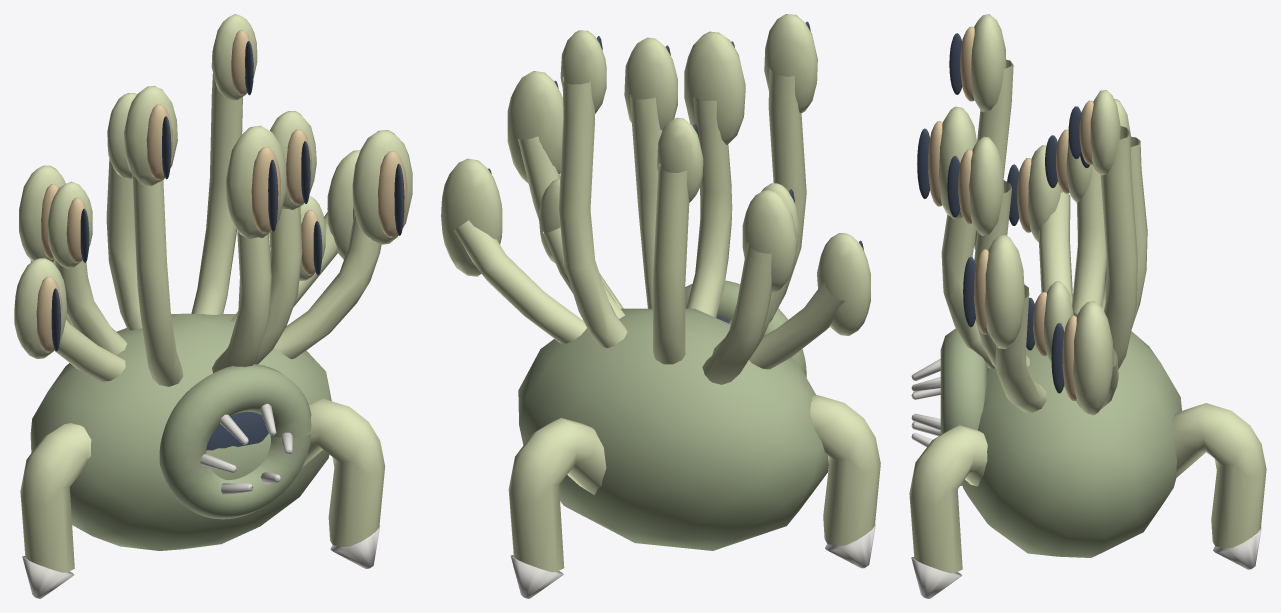
Rendered from bio_eye_orchard_07_far.glb.
3 renders of one model, left to right at view 1: azimuth 30°, elevation 25°; view 2: azimuth 150°, elevation 25°; view 3: azimuth 270°, elevation 25°, orthographic. The views are drawn at different scales.
Visible parts, largest first — view 1: Rooted muscular caudex, Raised oral lip, Asymmetric ocular branch.007, Asymmetric ocular branch.005, Asymmetric ocular branch.003, Asymmetric ocular branch.002, Crooked support.002, Crooked support.001, Asymmetric ocular branch.006, Asymmetric ocular branch.010, Asymmetric ocular branch.004, Asymmetric ocular branch.009 (+18 smaller); view 2: Rooted muscular caudex, Asymmetric ocular branch.003, Asymmetric ocular branch.002, Asymmetric ocular branch.008, Crooked support, Asymmetric ocular branch.006, Asymmetric ocular branch.001, Asymmetric ocular branch.007, Crooked support.001, Asymmetric ocular branch.010, Asymmetric ocular branch.004, Asymmetric ocular branch.005 (+5 smaller); view 3: Rooted muscular caudex, Crooked support, Asymmetric ocular branch.003, Crooked support.002, Asymmetric ocular branch.005, Asymmetric ocular branch.002, Asymmetric ocular branch.007, Asymmetric ocular branch.009, Asymmetric ocular branch.004, Asymmetric ocular branch.010, Asymmetric ocular branch.008, Raised oral lip (+22 smaller).
Boxes of the visible parts, x1,y1,x2,y2 form: Rooted muscular caudex: (30, 313, 331, 550); Raised oral lip: (159, 364, 311, 519); Asymmetric ocular branch.007: (124, 86, 183, 386); Asymmetric ocular branch.005: (274, 130, 412, 359); Asymmetric ocular branch.003: (191, 14, 257, 314); Asymmetric ocular branch.002: (212, 125, 286, 373); Crooked support.002: (302, 398, 385, 546); Crooked support.001: (20, 423, 91, 572); Asymmetric ocular branch.006: (106, 93, 142, 330); Asymmetric ocular branch.010: (254, 111, 316, 364); Asymmetric ocular branch.004: (14, 258, 125, 381); Asymmetric ocular branch.009: (47, 181, 127, 354); Rooted muscular caudex: (518, 308, 828, 550); Asymmetric ocular branch.003: (558, 30, 627, 347); Asymmetric ocular branch.002: (684, 31, 745, 317); Asymmetric ocular branch.008: (441, 158, 586, 344); Crooked support: (508, 418, 606, 572); Asymmetric ocular branch.006: (653, 117, 703, 364); Asymmetric ocular branch.001: (702, 189, 796, 384); Asymmetric ocular branch.007: (728, 14, 817, 324); Crooked support.001: (810, 395, 880, 545); Asymmetric ocular branch.010: (624, 37, 677, 309); Asymmetric ocular branch.004: (749, 233, 870, 369); Asymmetric ocular branch.005: (507, 71, 623, 308); Rooted muscular caudex: (962, 331, 1181, 557); Crooked support: (1172, 403, 1266, 548); Asymmetric ocular branch.003: (1090, 90, 1137, 369); Crooked support.002: (909, 425, 987, 573); Asymmetric ocular branch.005: (984, 235, 1046, 412); Asymmetric ocular branch.002: (938, 106, 995, 368); Asymmetric ocular branch.007: (971, 14, 1013, 249); Asymmetric ocular branch.009: (1066, 139, 1106, 314); Asymmetric ocular branch.004: (1028, 145, 1072, 303); Asymmetric ocular branch.010: (969, 136, 1029, 368); Asymmetric ocular branch.008: (1073, 301, 1118, 415); Raised oral lip: (940, 328, 987, 485).
Bounding box in the file's own units: 1.71 × 2.09 × 1.37.
